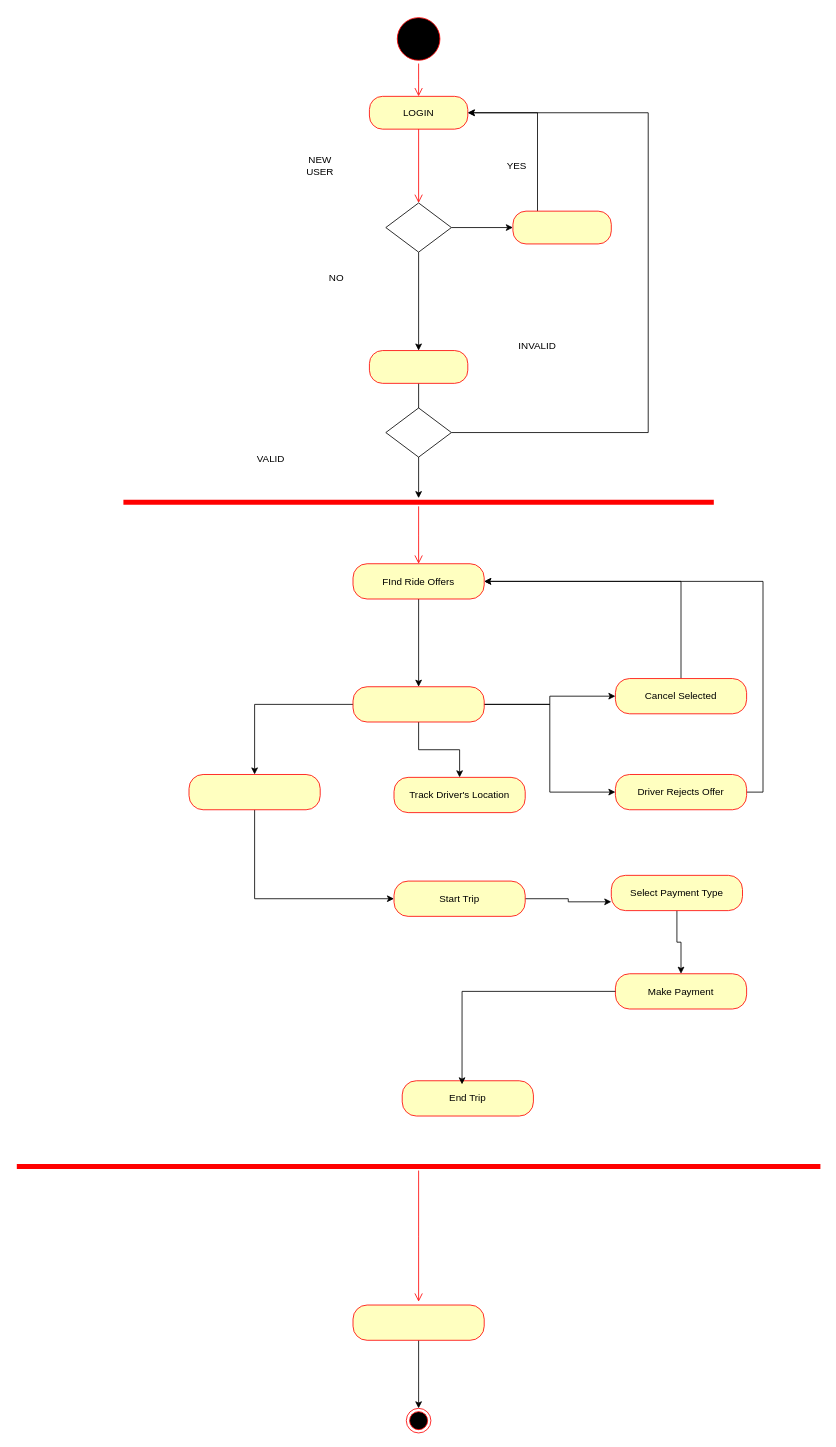
The diagram is 836 pixels wide and 1447 high, and some of its shapes have lost their labels. Each missing label, with the centre of its shape:
"AUTH" goes at point (418, 366).
"Choose Ride Offer" goes at point (418, 704).
"Driver Accepts Offer" goes at point (254, 792).
"LOGOUT" goes at point (418, 1322).
"REGISTER" goes at point (561, 227).
